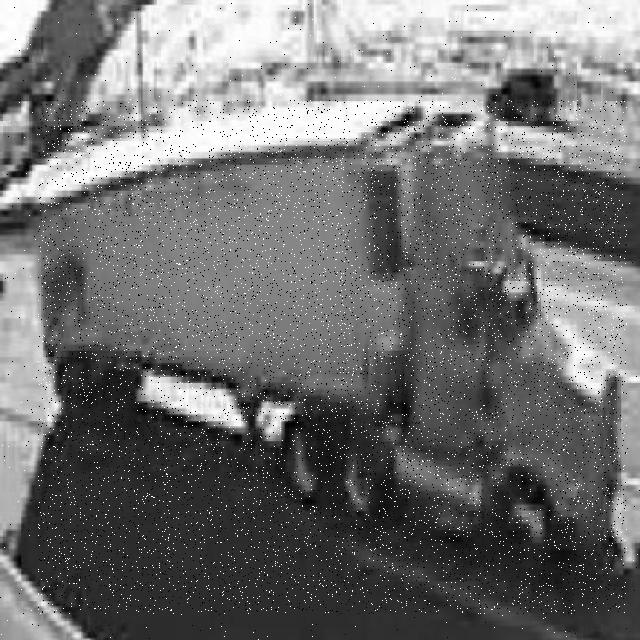Box Truck: (38, 100, 627, 614)
